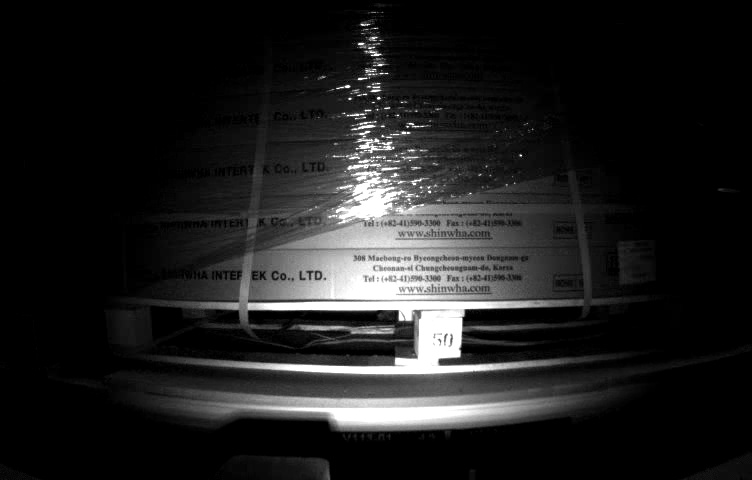True Barcode: (617, 239, 662, 286)
